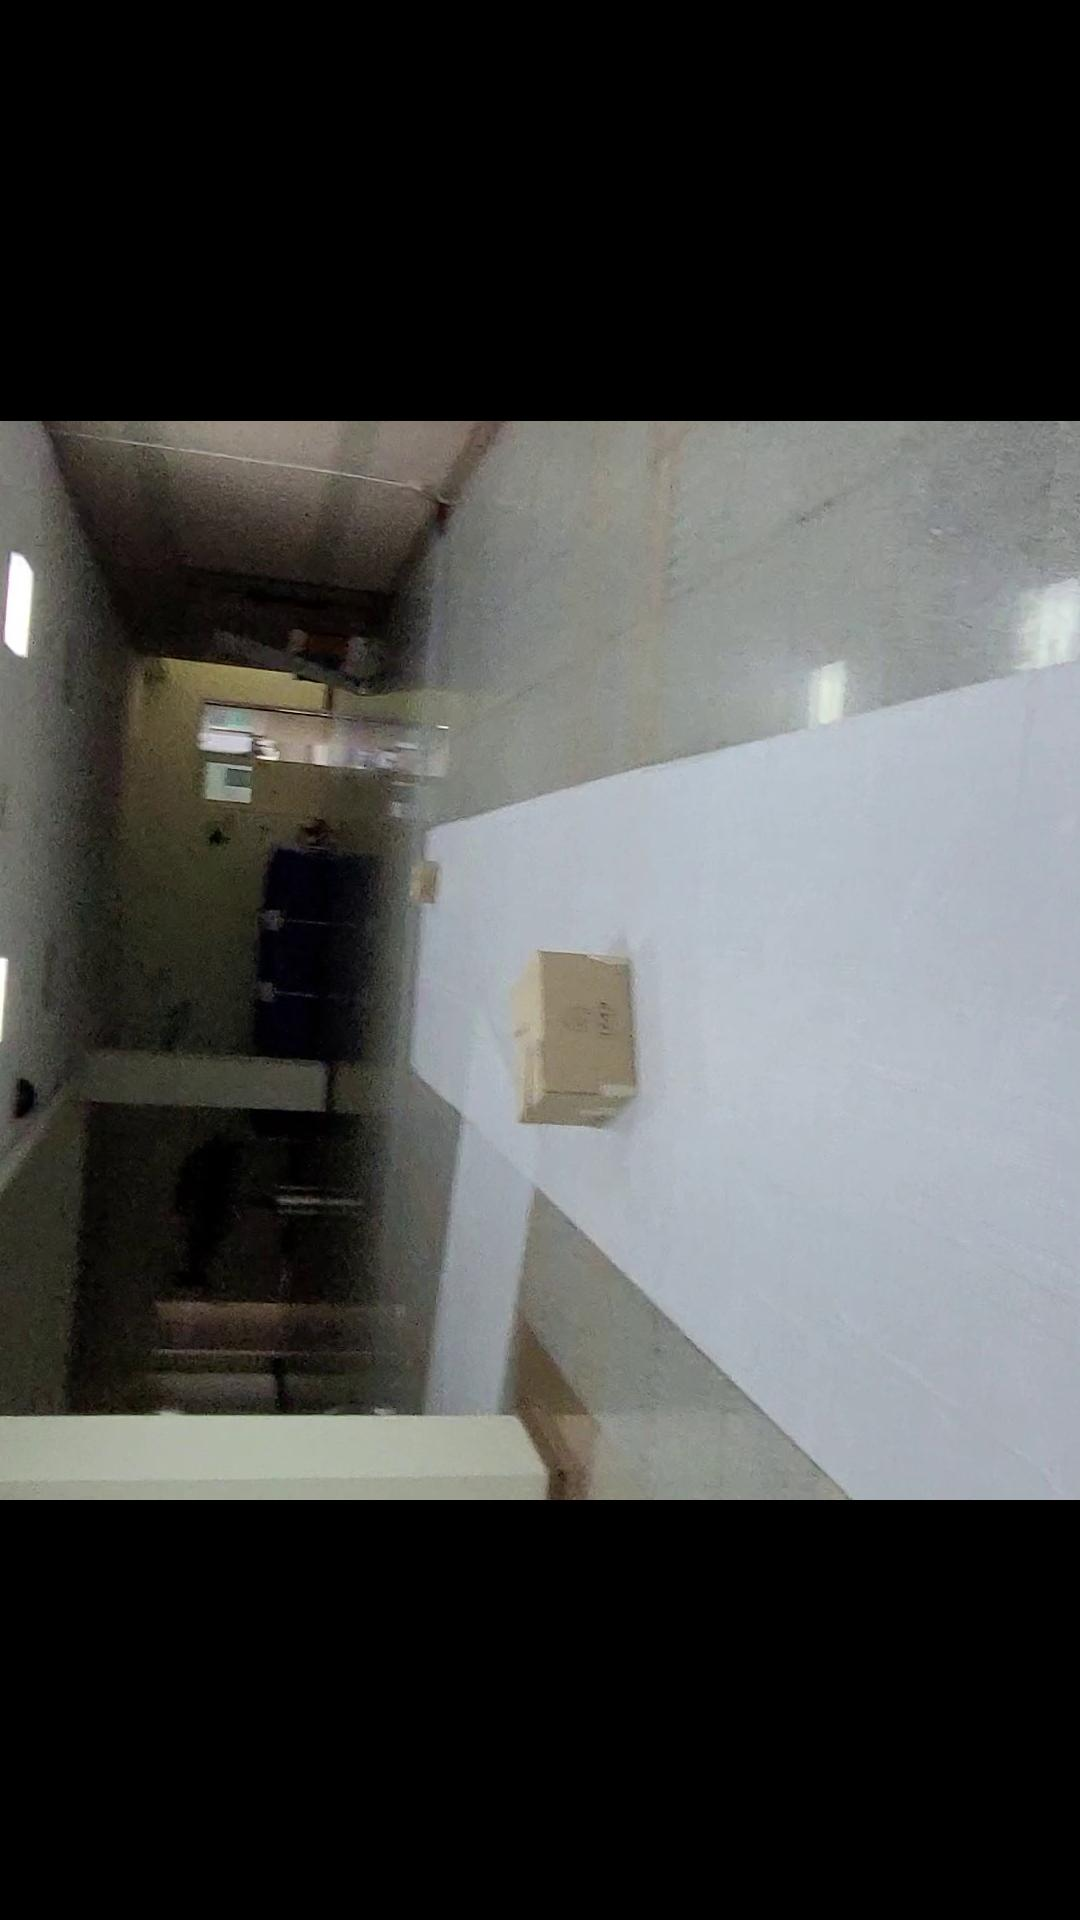Box: (468, 932, 661, 1139), (355, 836, 467, 922)
